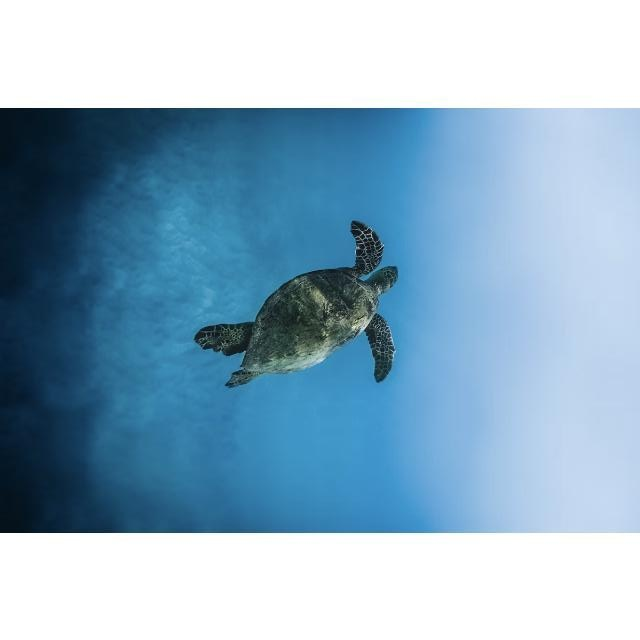turtle: (192, 220, 400, 390)
